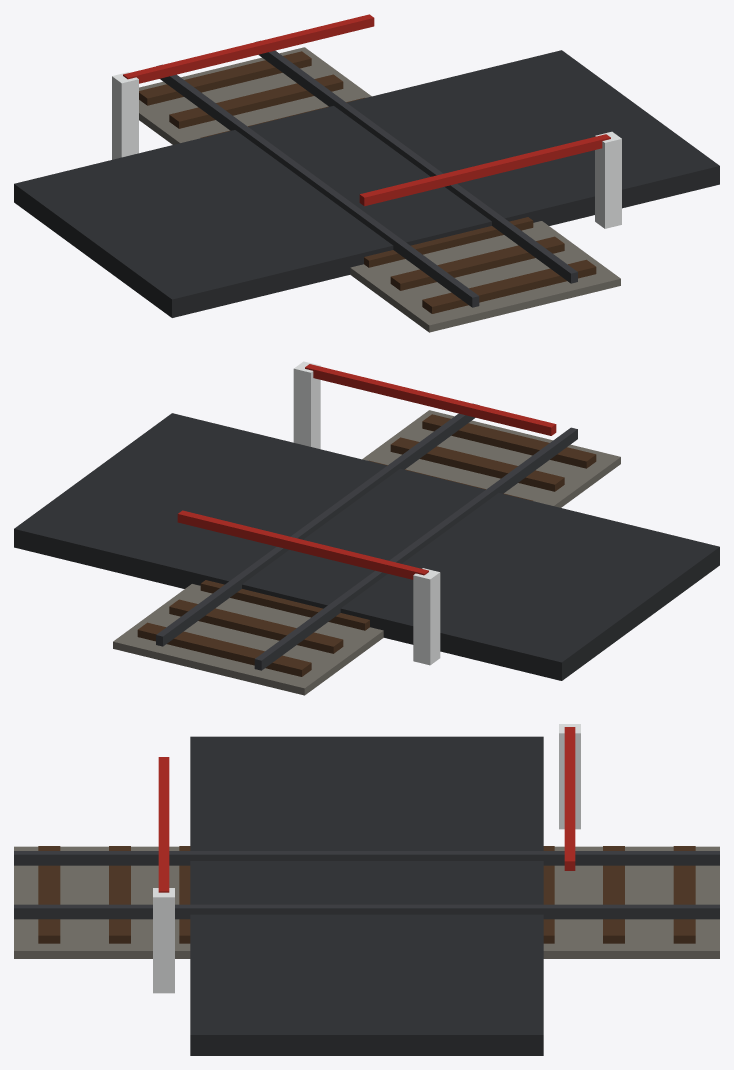
The model's file is road_rail_v_crossing_lod1.glb.
3 renders of one model, top to bottom at view 1: azimuth 30°, elevation 25°; view 2: azimuth 150°, elevation 25°; view 3: azimuth 270°, elevation 25°, orthographic. The views are drawn at different scales.
Parts seen in each view (by area): view 1: body, barrier_1, barrier_0; view 2: body, barrier_0, barrier_1; view 3: body, barrier_1, barrier_0.
Part boxes in pixels (<box>): body: <box>14,40,719,332</box>; barrier_1: <box>359,131,621,228</box>; barrier_0: <box>112,14,374,159</box>; body: <box>14,403,719,695</box>; barrier_0: <box>177,510,440,665</box>; barrier_1: <box>293,361,556,449</box>; body: <box>14,736,719,1055</box>; barrier_1: <box>153,757,174,993</box>; barrier_0: <box>559,724,580,870</box>.
Size of the model in its own units: 8 by 1.22 by 8.
